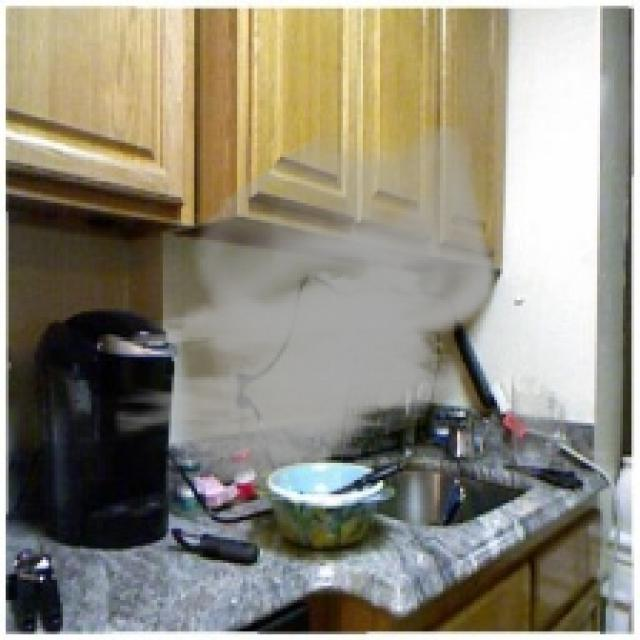smoke: (114, 123, 497, 494)
